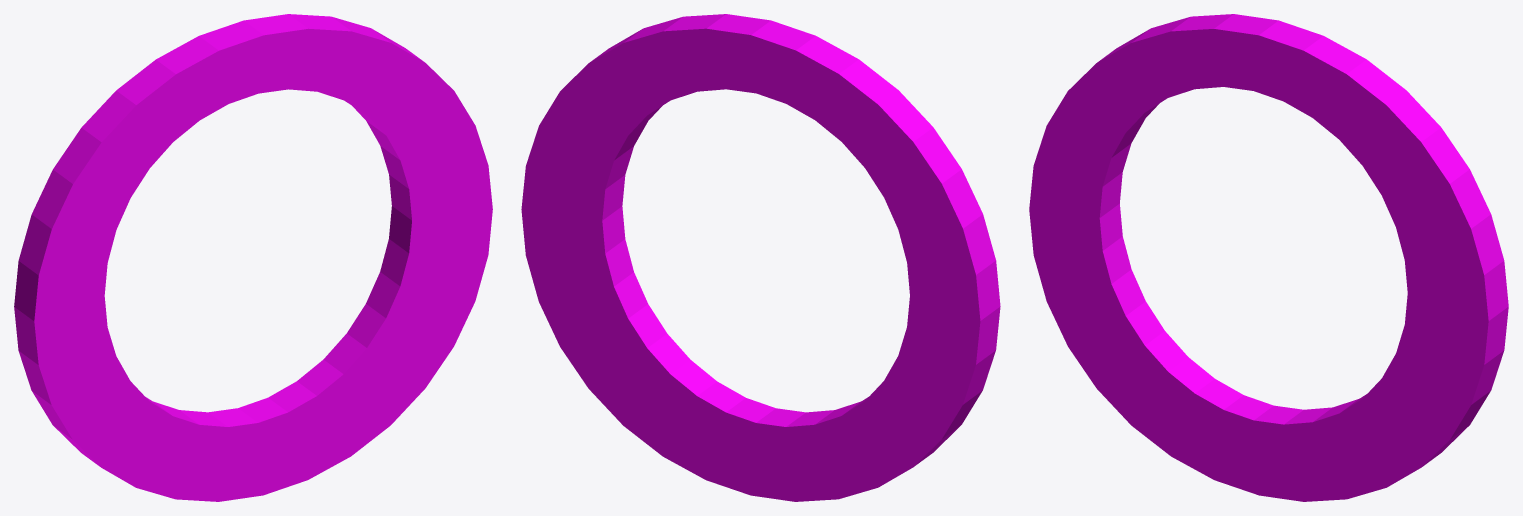
Rendered from PlayerAura.dae.
3 views of the same model, side by side, from view 1: azimuth 30°, elevation 25°; view 2: azimuth 150°, elevation 25°; view 3: azimuth 330°, elevation 25° (orthographic).
Visible parts, largest first — view 1: Cylinder; view 2: Cylinder; view 3: Cylinder.
Boxes of the visible parts, x1,y1,x2,y2 form: Cylinder: (14,14,492,501); Cylinder: (521,14,1000,501); Cylinder: (1029,14,1508,501).
Bounding box in the file's own units: 5.03 × 0.3938 × 4.82.
